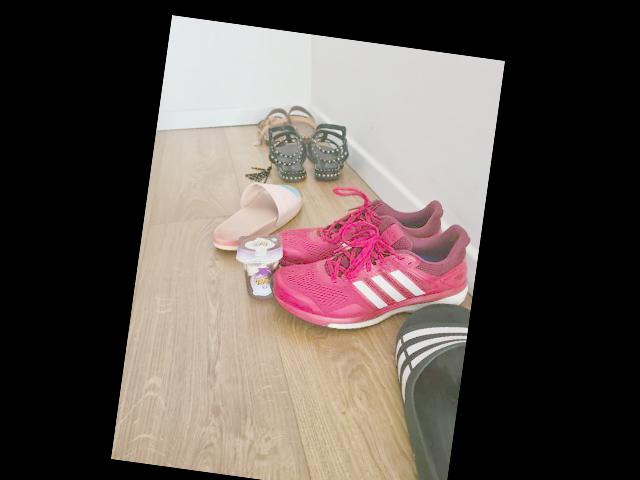milky: (231, 233, 286, 300)
